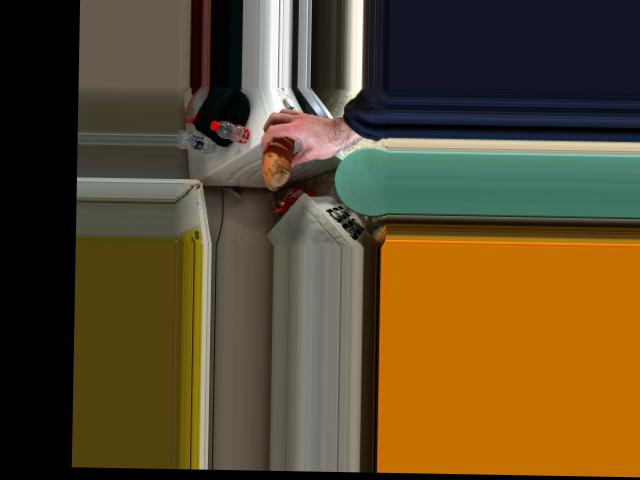sweet_potato: (267, 123, 310, 174)
